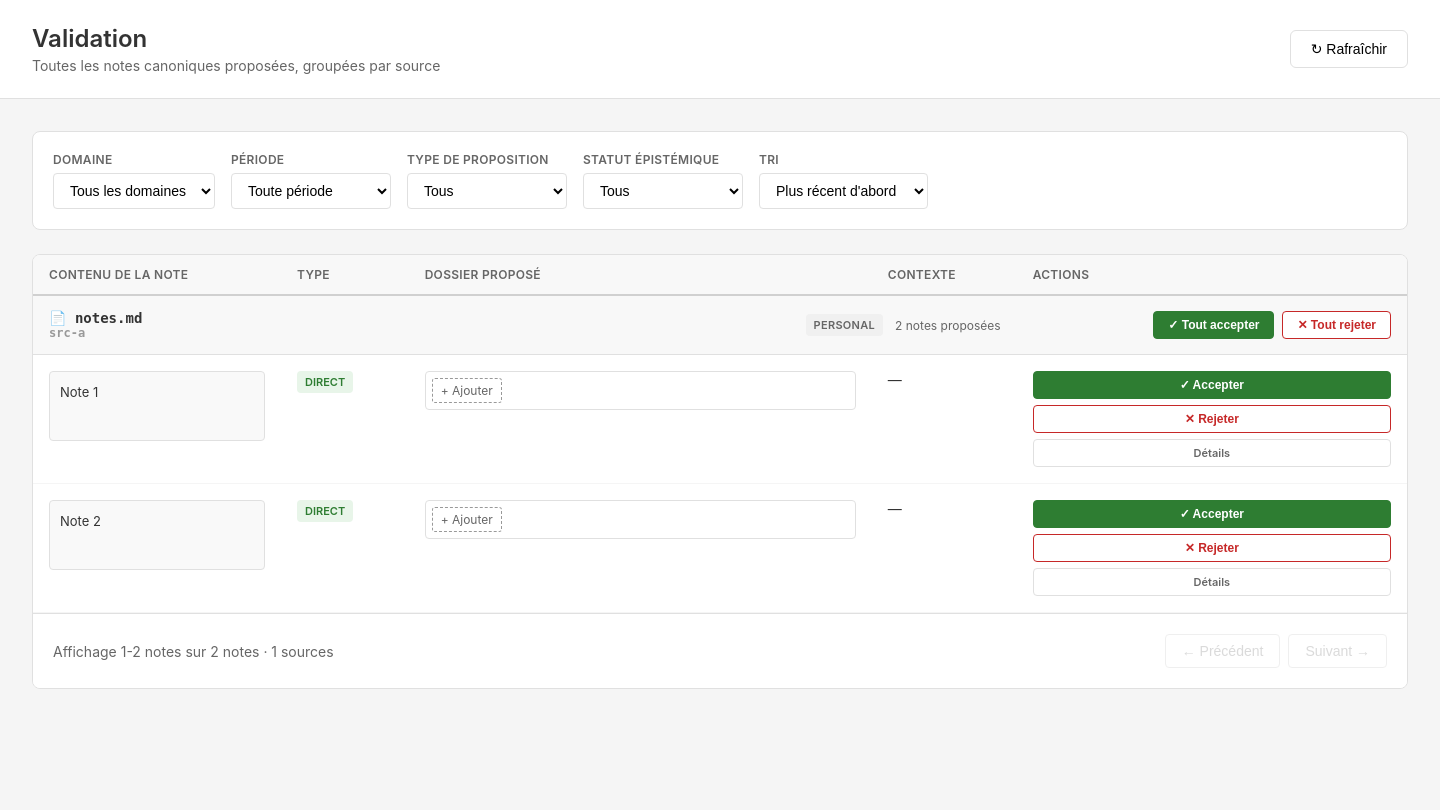
Test: Validation › TASK-015 AC2: a partial-failure accept-batch keeps the failed note visible, removes the rest, and surfaces one banner message per failure
The width and height of the screenshot is (1440, 810).
Expected: the text "Note 1" is shown, [49,371,265,441]
Click the button "✓ Tout accepter".
click(1214, 325)  # box [1153,311,1274,339]
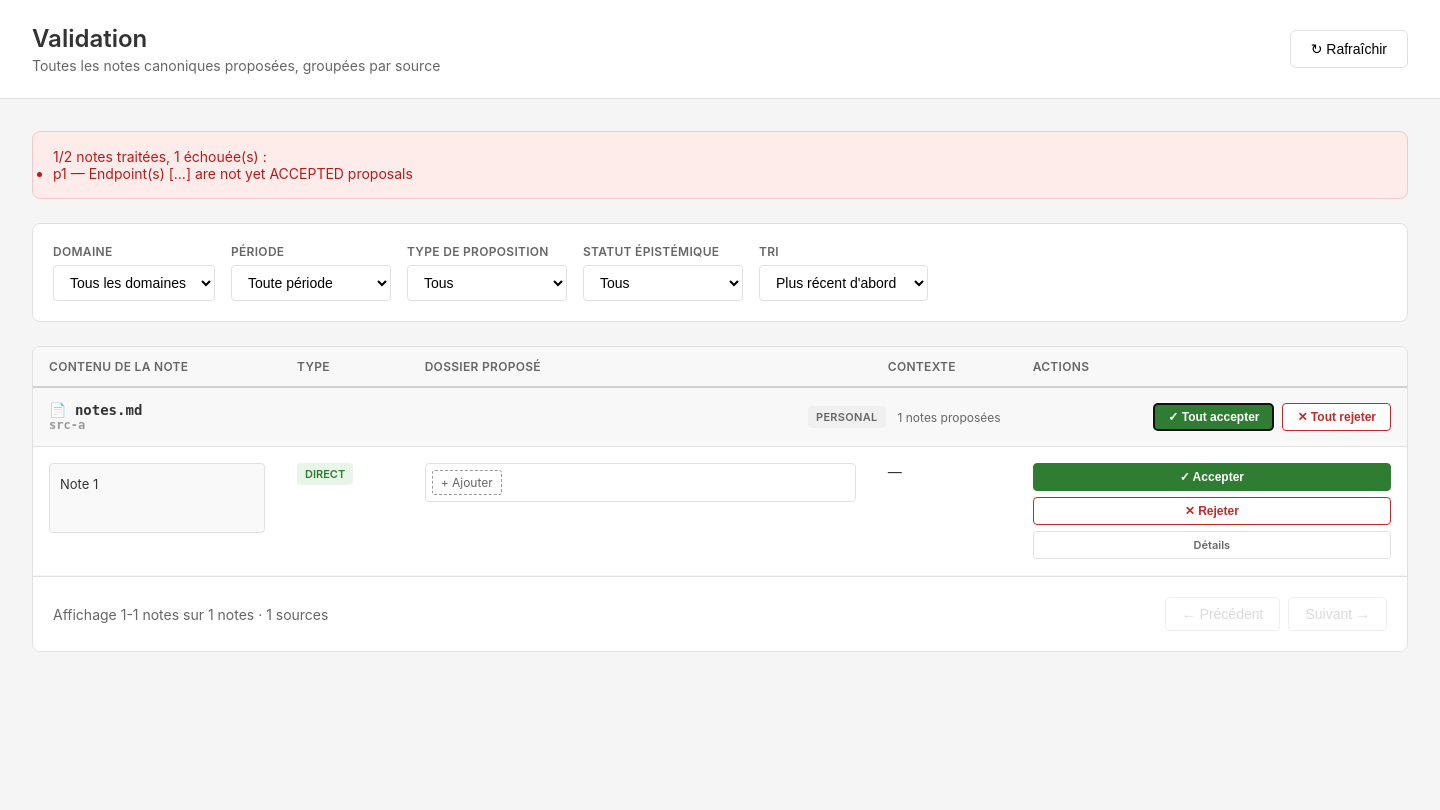
Result: the text "Note 2" is gone
Result: the text "1/2 notes traitées, 1 échouée(s) :" is shown at [53,148,267,165]
Result: the list item "p1 — Endpoint(s) [...] are not yet ACCEPTED proposals" is shown at [53,165,413,182]
